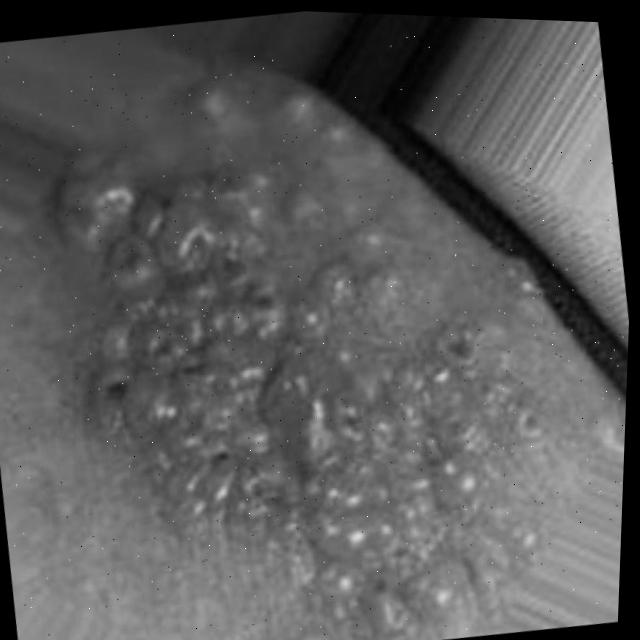Shingles: (23, 35, 588, 640)
